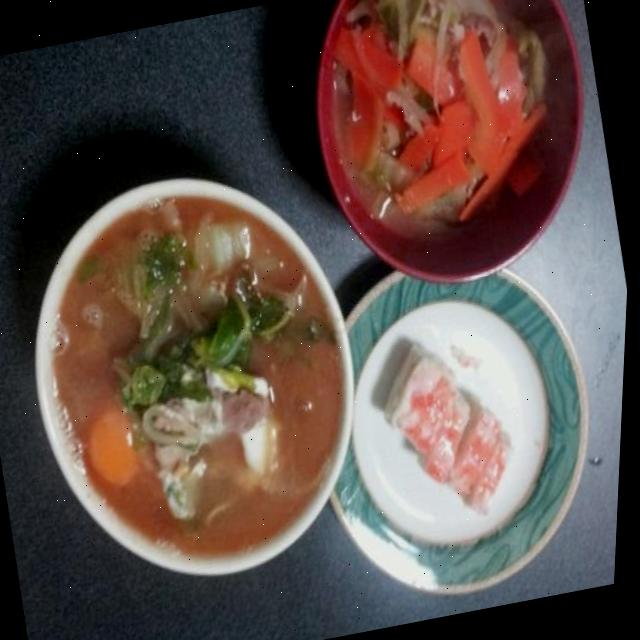汤锅炖物: (286, 0, 623, 311)
面条主食: (0, 157, 397, 621)
